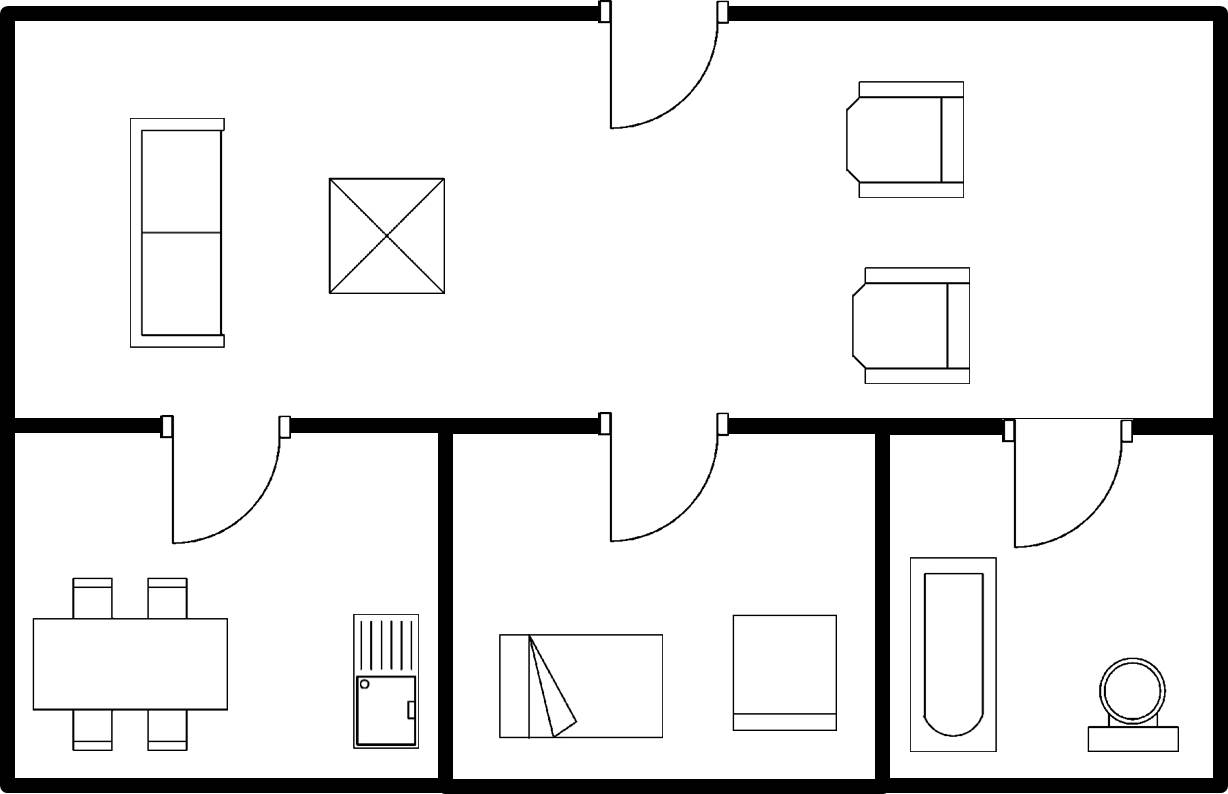armchair: (841, 75, 972, 206), (848, 260, 976, 391)
bed: (489, 627, 671, 747)
coffee_table: (322, 168, 453, 303)
dining_table: (29, 570, 235, 759)
large_sink: (1082, 649, 1187, 760)
large_sofa: (124, 111, 234, 357)
sink: (344, 606, 425, 759)
small_sofa: (728, 608, 842, 742)
tub: (902, 547, 1003, 760)
